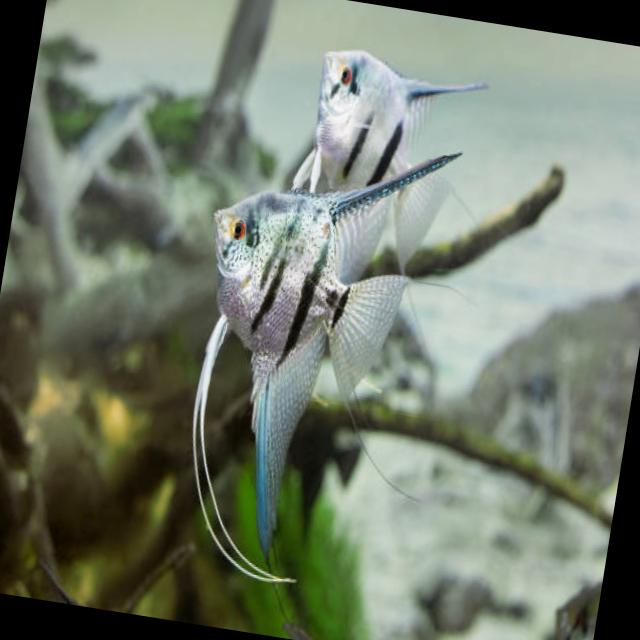AngelFish: (156, 111, 475, 604), (295, 41, 494, 212)
